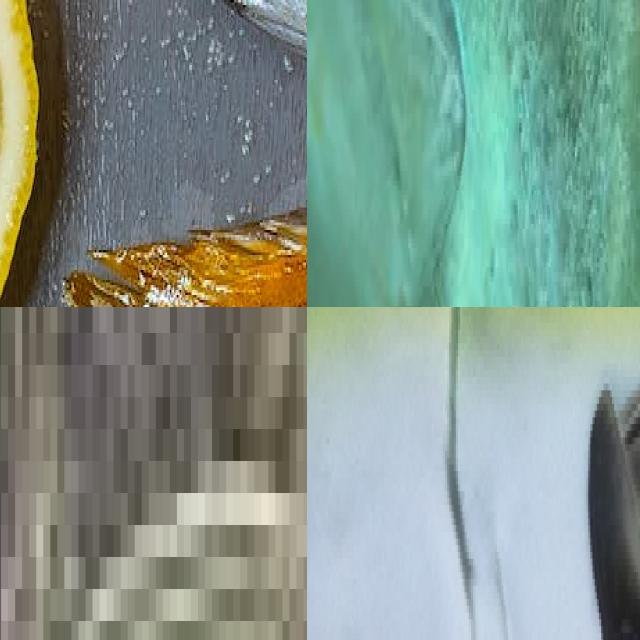fish: (307, 307, 640, 640), (0, 307, 307, 640), (0, 0, 307, 307), (434, 0, 640, 307)
